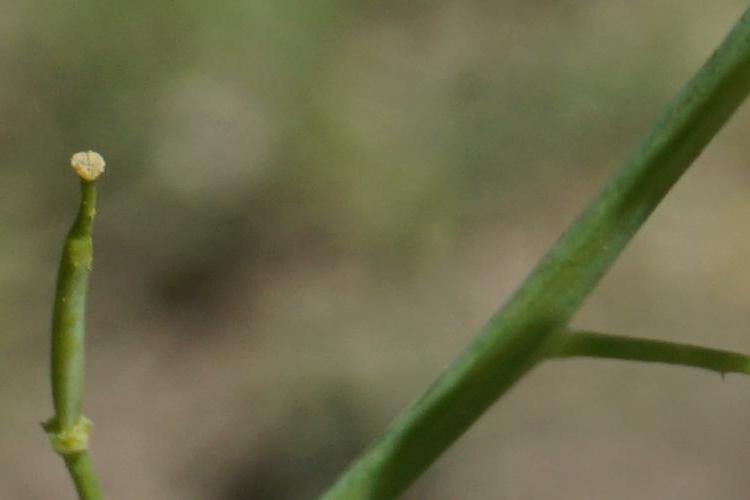pod: (35, 151, 121, 460)
